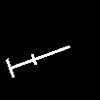double_crochet: (6, 46, 69, 76)
